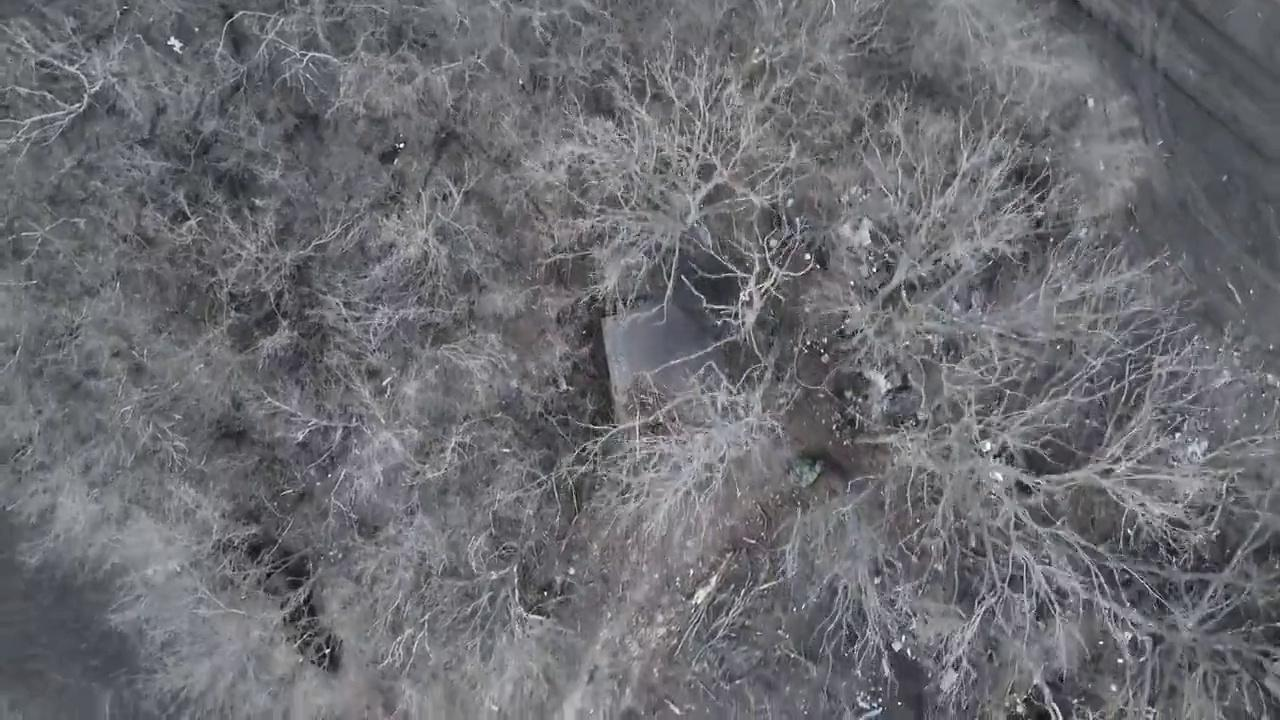vehicle: (588, 241, 674, 428)
